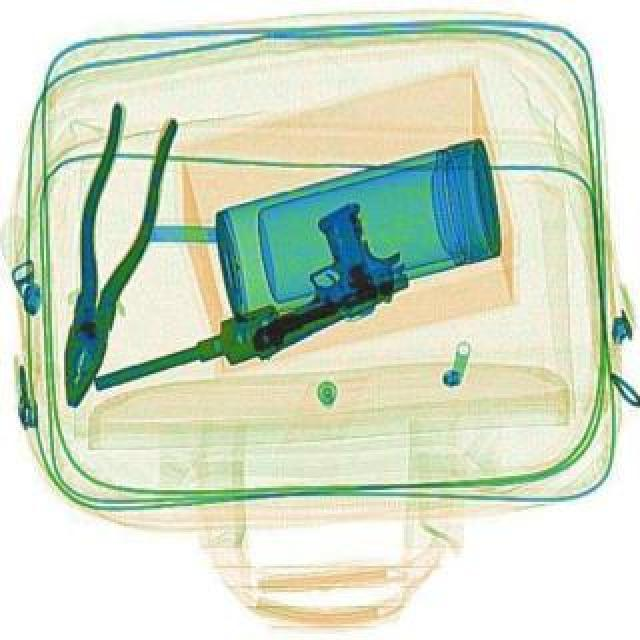gun: (202, 190, 418, 362)
wrench: (32, 98, 184, 412)
